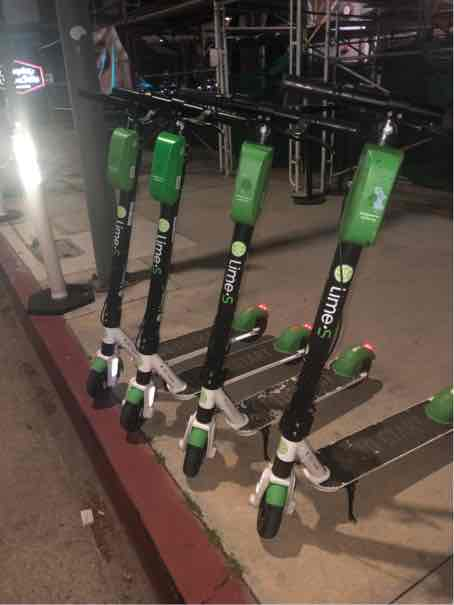too close: (92, 373, 175, 472), (52, 334, 127, 419)
